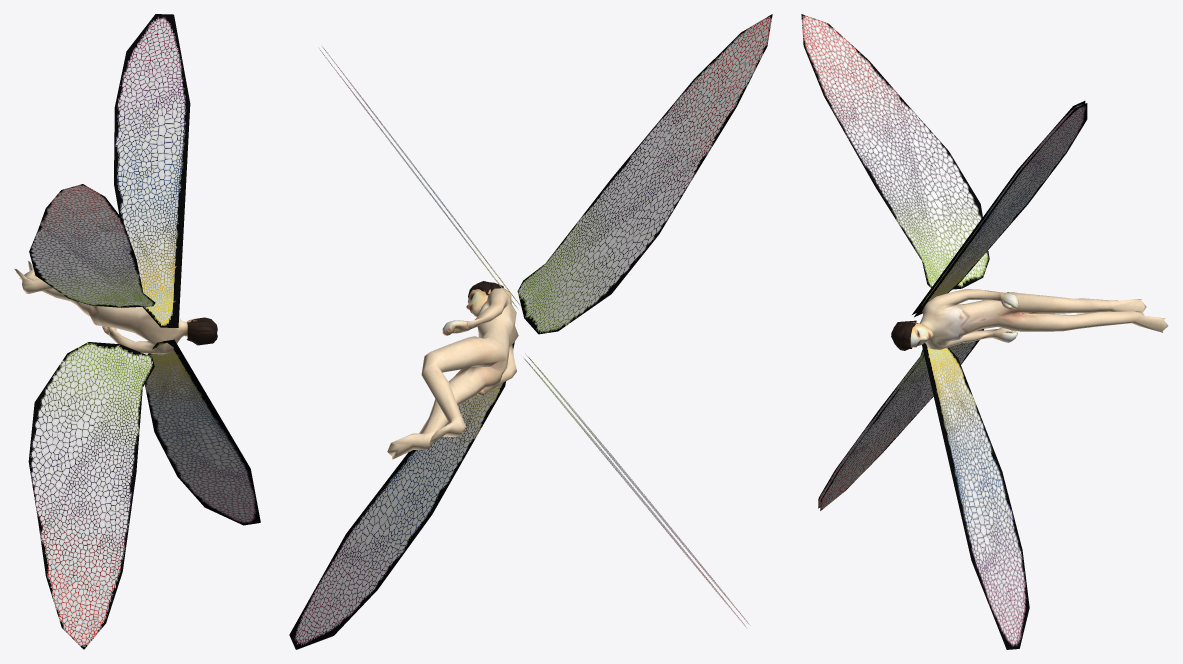
Rendered from angel_000005.obj.
3 renders of one model, left to right at view 1: azimuth 30°, elevation 25°; view 2: azimuth 150°, elevation 25°; view 3: azimuth 270°, elevation 25°, orthographic. The views are drawn at different scales.
Parts seen in each view (by area): view 1: Plane.001, Plane.003, Plane, Plane.002, body.001_omino.012, hair.003_omino.013; view 2: Plane.002, Plane, body.001_omino.012, Plane.001, Plane.003; view 3: Plane.002, Plane, body.001_omino.012, Plane.003, Plane.001, hair.003_omino.013.
Part boxes in pixels (<box>): Plane.001: <box>28,342,154,649</box>; Plane.003: <box>114,14,190,327</box>; Plane: <box>144,339,260,525</box>; Plane.002: <box>29,184,155,307</box>; body.001_omino.012: <box>14,261,196,354</box>; hair.003_omino.013: <box>187,317,217,345</box>; Plane.002: <box>517,14,772,334</box>; Plane: <box>289,342,514,649</box>; body.001_omino.012: <box>387,288,518,459</box>; Plane.001: <box>523,353,749,627</box>; Plane.003: <box>320,48,520,307</box>; Plane.002: <box>801,14,989,289</box>; Plane: <box>922,343,1029,649</box>; body.001_omino.012: <box>904,289,1168,349</box>; Plane.003: <box>912,101,1087,317</box>; Plane.001: <box>818,329,983,510</box>; hair.003_omino.013: <box>891,320,918,350</box>.
Size of the model in its own units: 3.58 by 6.01 by 3.84.
